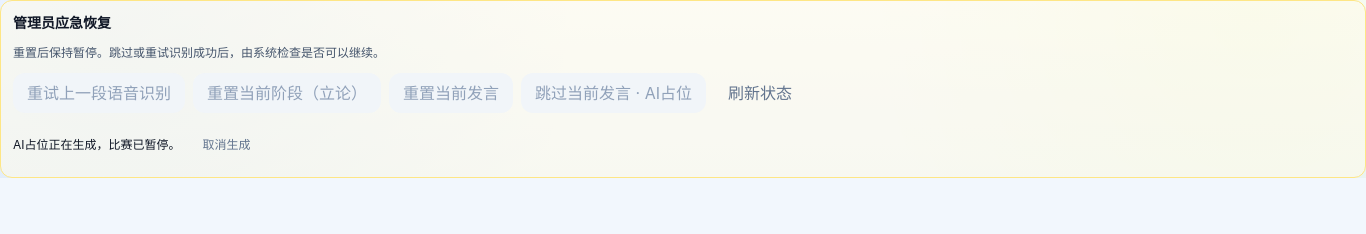
Test: administrator emergency controls › disables competing actions while pending and cancels only that operation
Expected: the button "跳过当前发言 · AI占位" is disabled, [521,73,706,113]
Expected: the button "重置当前发言" is disabled, [389,73,513,113]
Click the button "取消生成".
click(226, 145)  # box [188,125,264,165]
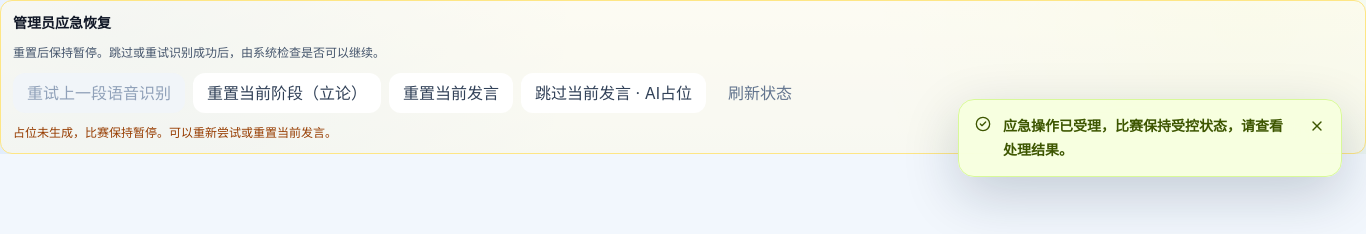
Expected: the text "占位未生成，比赛保持暂停。可以重新尝试或重置当前发言。" is shown, [13,125,337,140]
